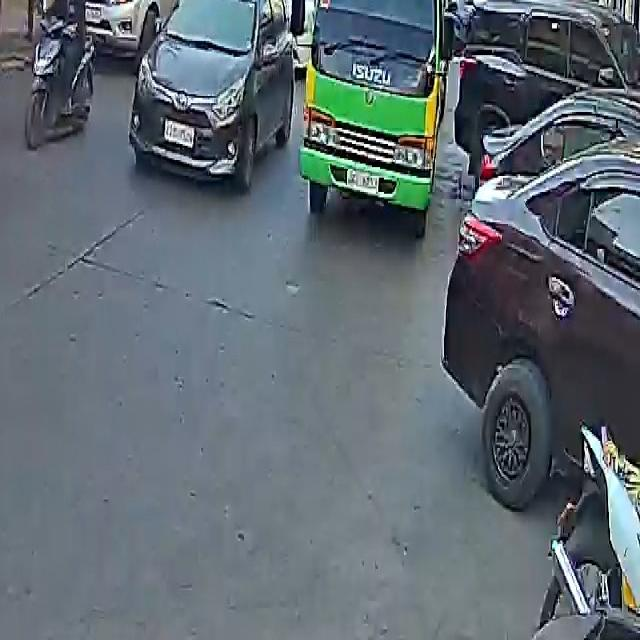car: (445, 78, 640, 528), (446, 0, 635, 180), (129, 0, 305, 185), (77, 0, 217, 68)
